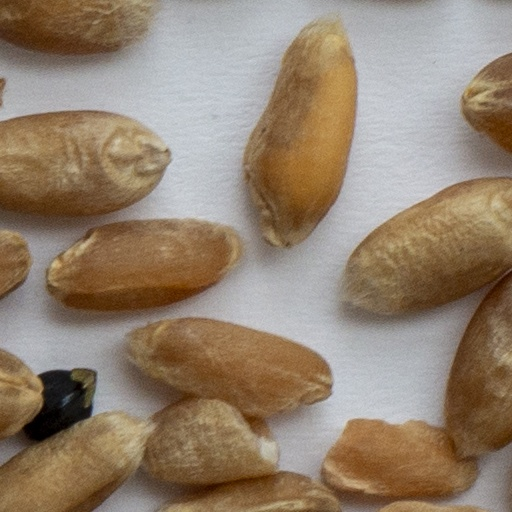Fallopia-Convolvulus-poly: (28, 371, 94, 437)
